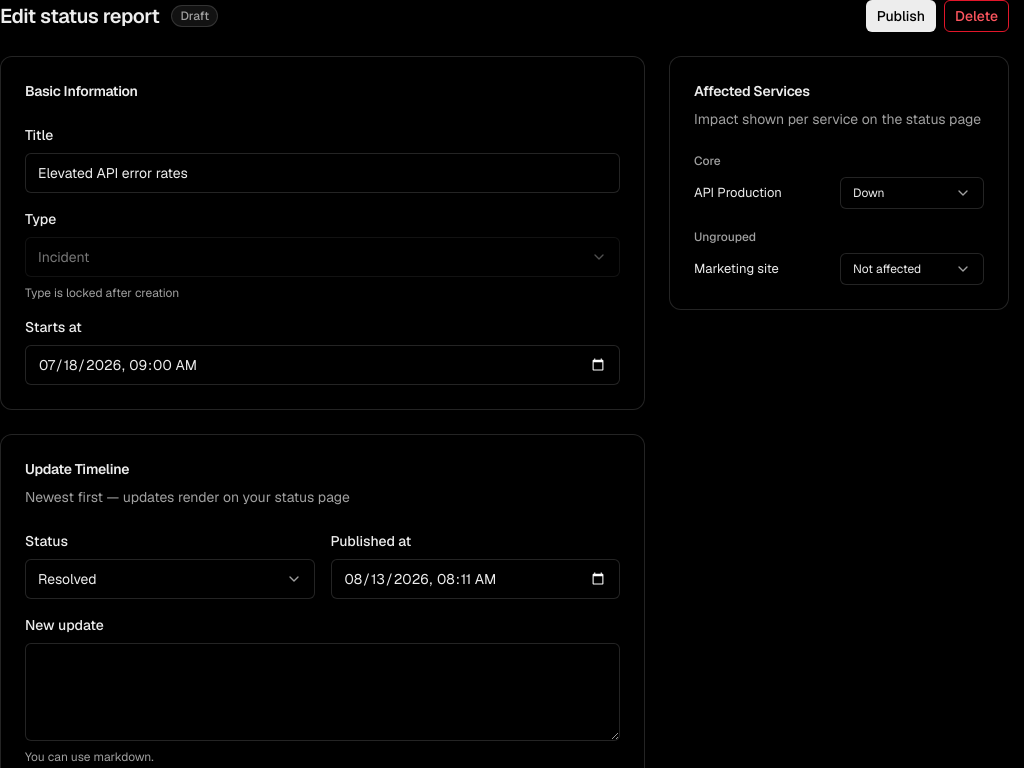
it: ReportEditor unsaved-changes protection › re-pushes the sentinel and opens the discard dialog on browser Back/Forward (popstate) while dirty
Step 1. Type "Retitled report" into the field labelled "Title" → (322,173), box [25,153,620,193]
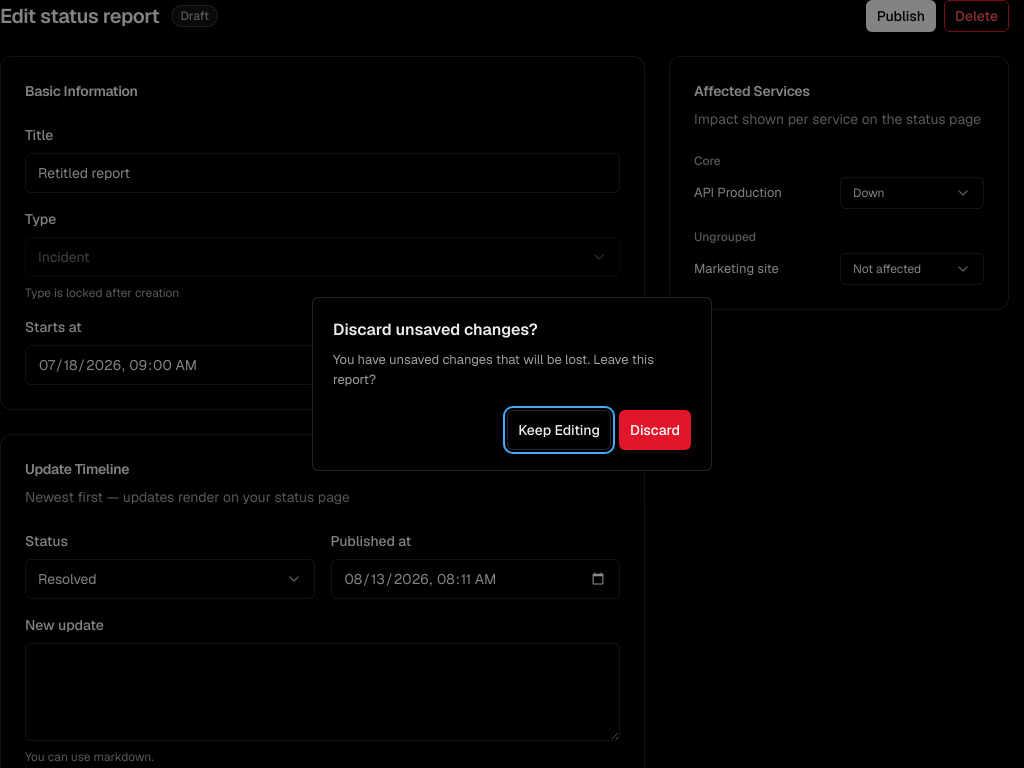
Now the heading "Discard unsaved changes?" is shown, box [333,319,538,340]
Now the text "You have unsaved changes that will be lost. Leave this report?" is shown, box [333,350,691,390]
